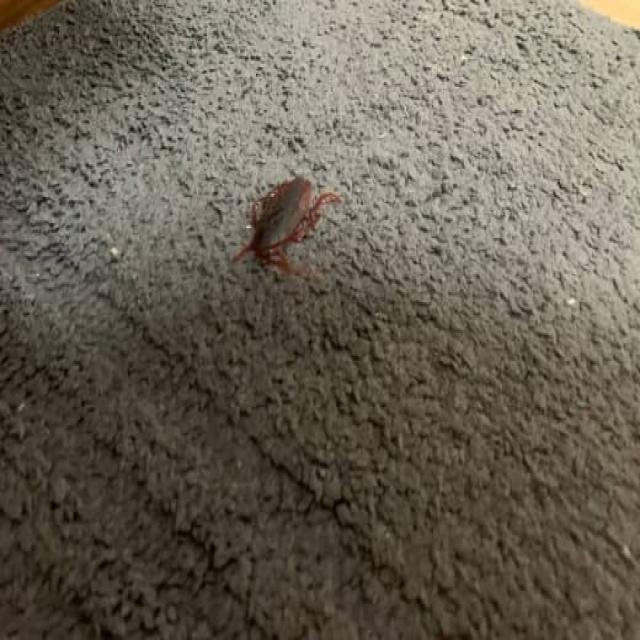Cockroach: (238, 156, 336, 271)
